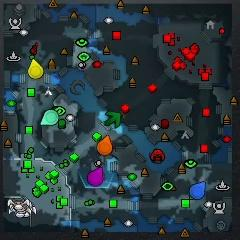p1: (190, 181, 206, 200)
p2: (40, 110, 59, 126)
p3: (88, 167, 104, 187)
p4: (27, 59, 44, 79)
p5: (97, 136, 113, 155)
x4: (105, 111, 121, 127)
